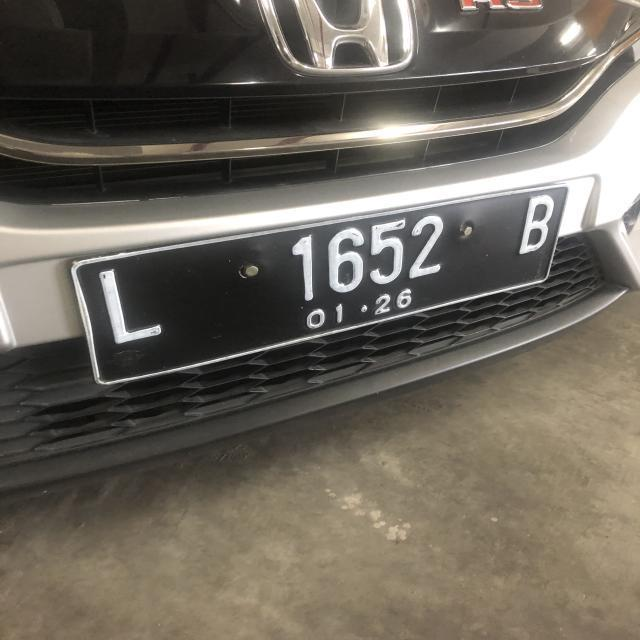1: (286, 230, 322, 302)
2: (408, 212, 450, 280)
5: (370, 218, 408, 288)
6: (323, 226, 366, 294)
B: (516, 195, 558, 256)
L: (96, 264, 176, 346)
